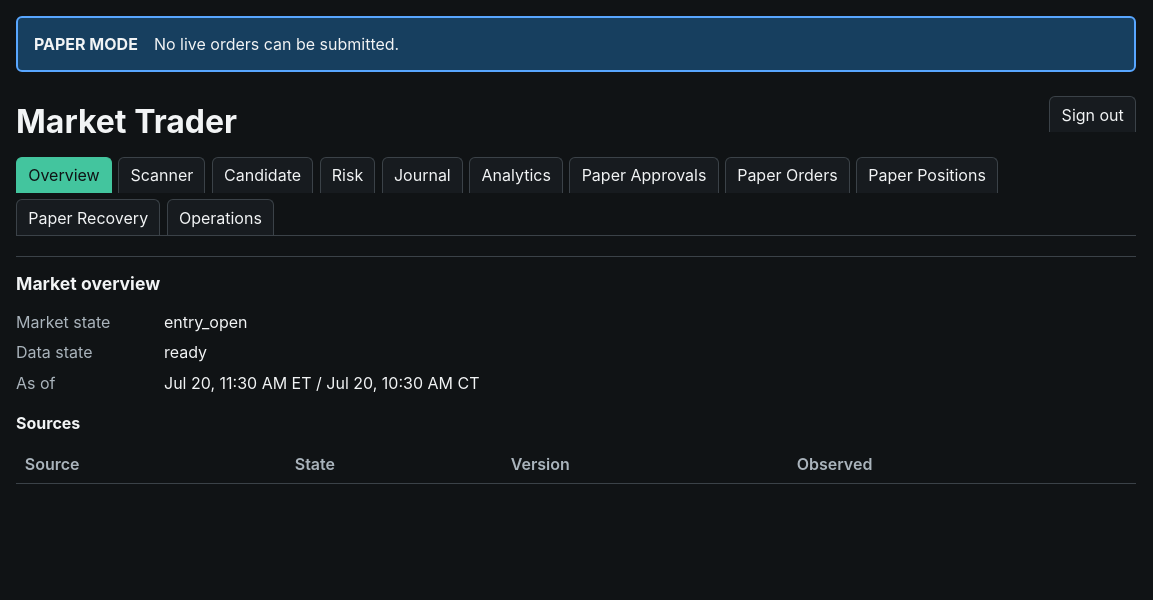
Test case: returns to login when the operator signs out
Expected: the text "PAPER MODE" is shown, left=34, top=34, right=138, bottom=54
Click the button "Sign out". click: (1093, 114)
box: left=1049, top=96, right=1136, bottom=132
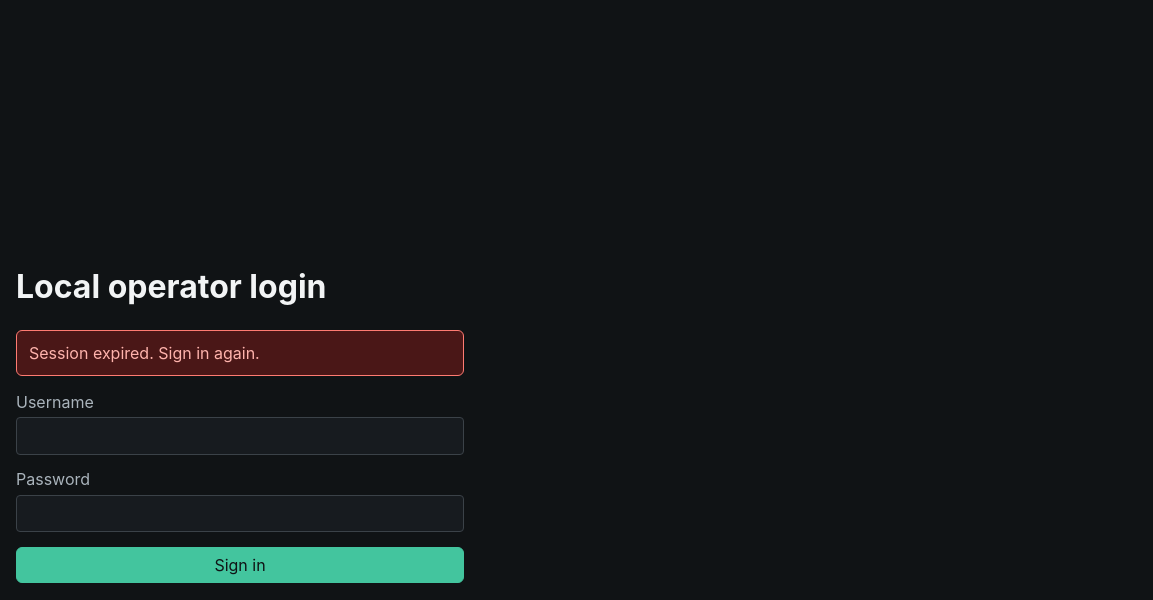
Expected: the heading "Local operator login" is shown, left=16, top=267, right=326, bottom=306
Expected: the message reads "Session expired. Sign in again.", left=29, top=343, right=260, bottom=363
